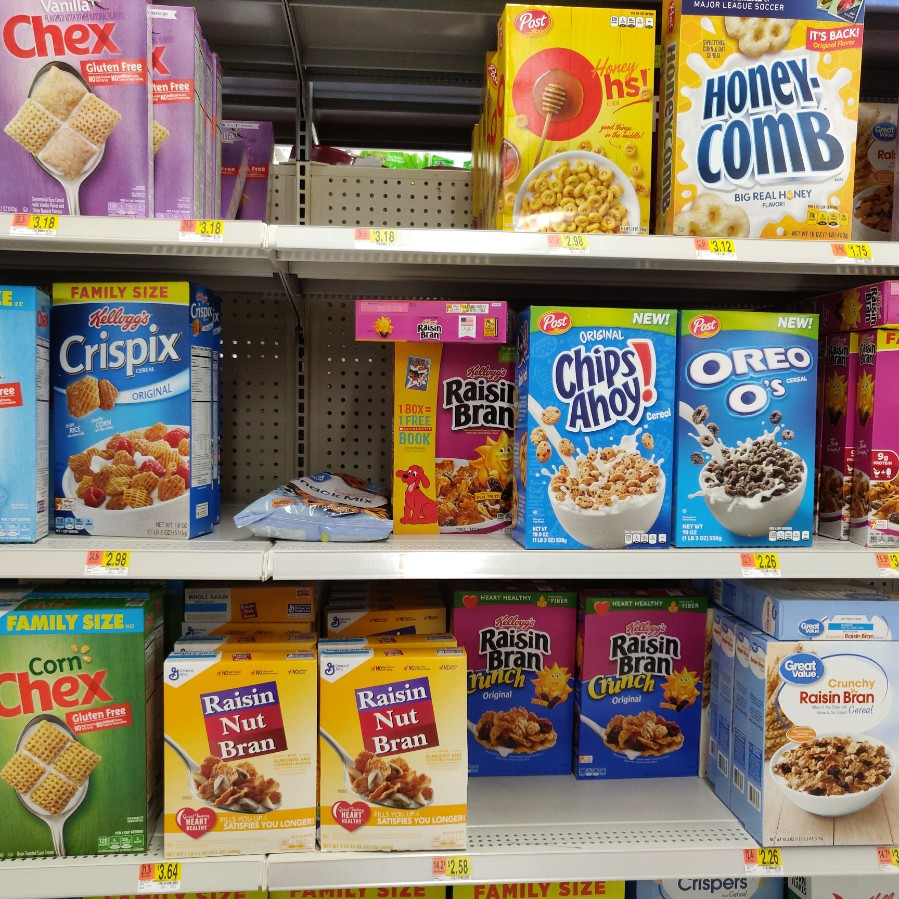Chips Ahoys-565717529: (529, 306, 679, 545)
Honey Comb- 009288857: (675, 4, 853, 237)
Oreo-563424384: (678, 307, 819, 548)
